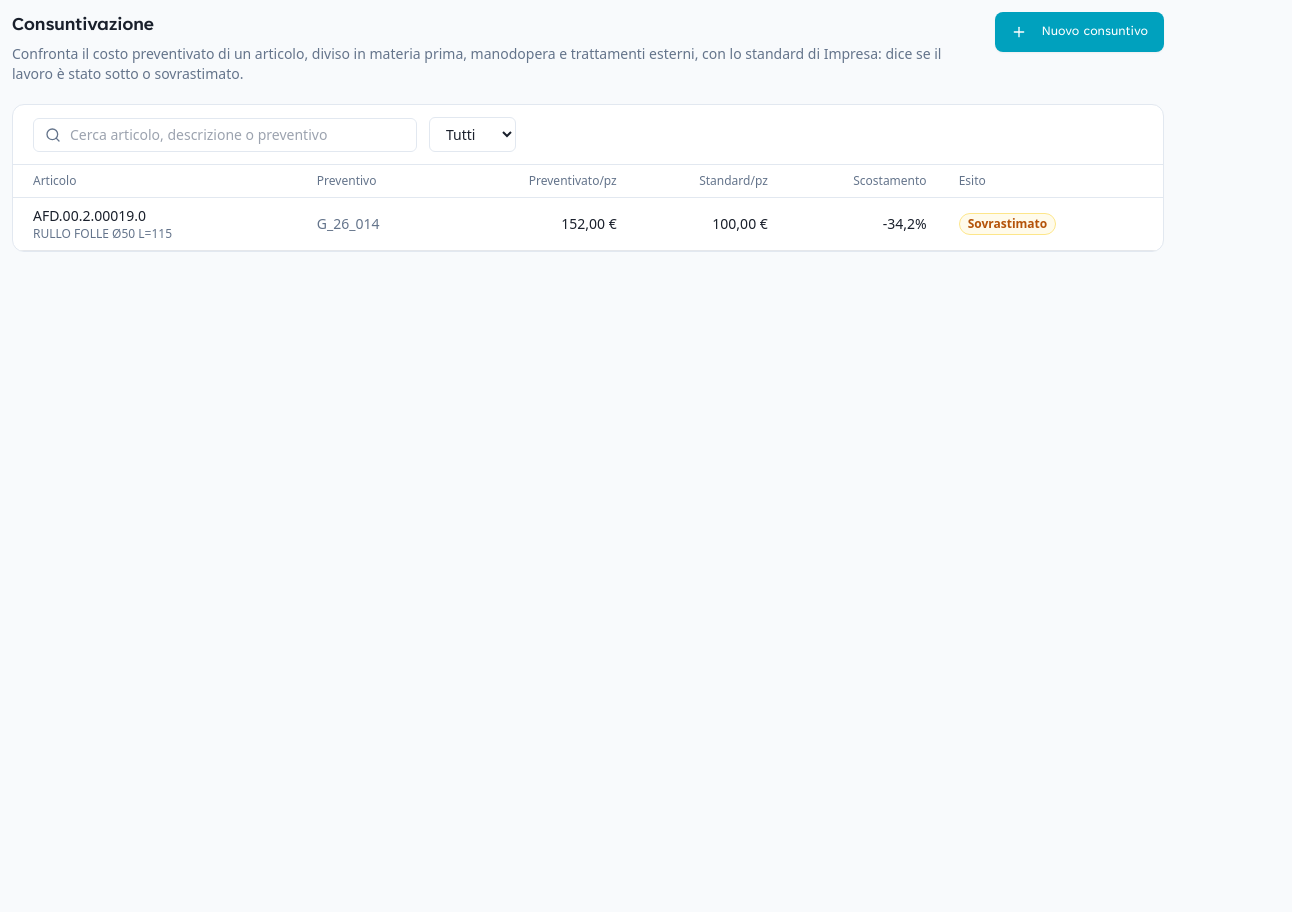
render Consuntivazione › mostra l'esito del confronto per ogni consuntivo e apre il dettaglio
The width and height of the screenshot is (1292, 912).
Check: the text "Sovrastimato" is shown, box 959,213 -> 1056,235
Click the text "AFD.00.2.00019.0": [90, 216] box 33,206 -> 146,225
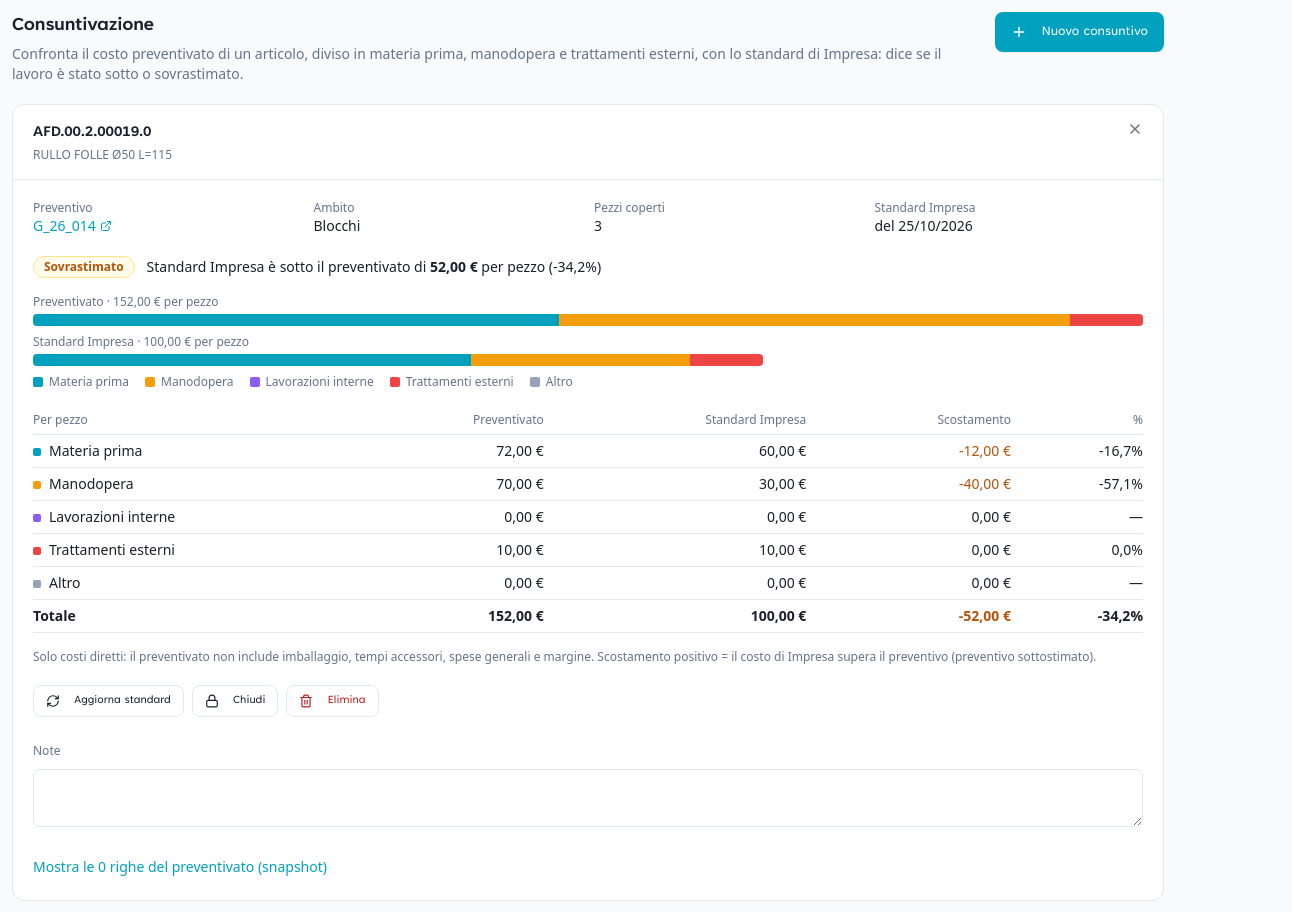
Check: the button "Mostra le 0 righe del preventivato (snapshot)" is shown, box 33,857 -> 327,877
Check: the text "Materia prima" is shown, box 33,374 -> 129,390
